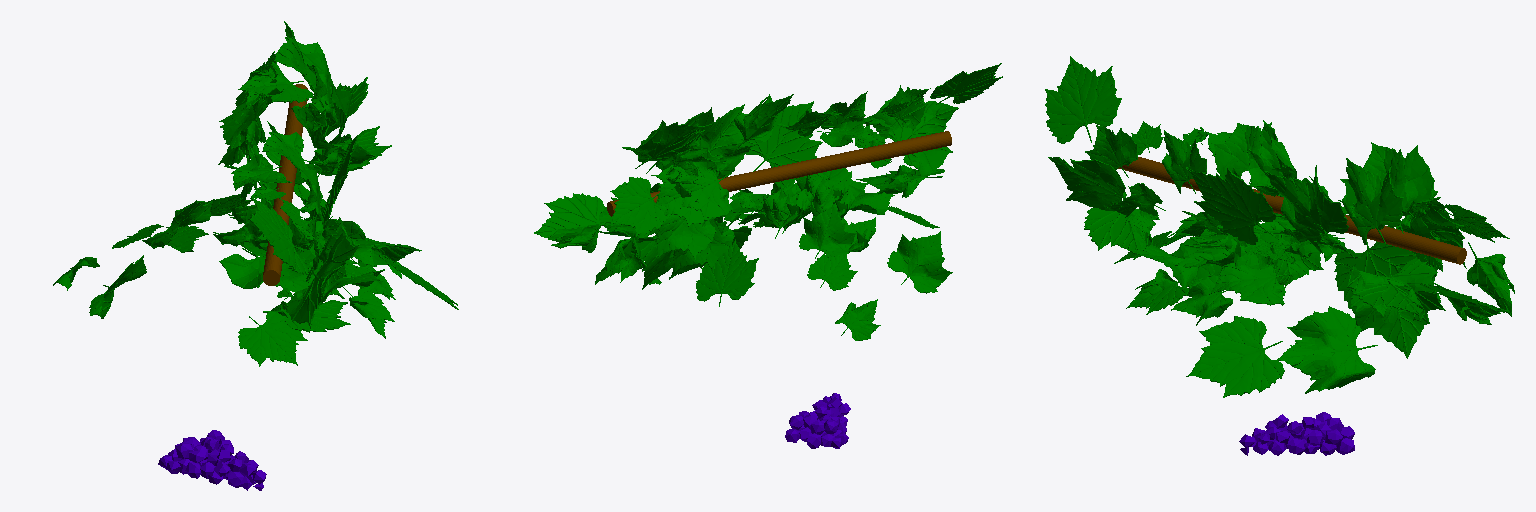
--- What the picture shows (computed from the rendered views, not written in the file) ---
The picture shows the robot from 3 angles, left to right: view 1: azimuth 30°, elevation 25°; view 2: azimuth 150°, elevation 25°; view 3: azimuth 270°, elevation 25°; orthographic projection.
Model UNNAMED_0 with 125 links and 124 joints (2 revolute, 60 prismatic, 62 fixed), rooted at target, posed every joint at zero.
Visible links, largest first — view 1: target, cluster_2_leaf_6, branch_0_leaf_5, cluster_2_leaf_3, branch_0, branch_0_leaf_22, branch_0_leaf_27, branch_0_leaf_4, branch_0_leaf_25, branch_0_leaf_15, branch_0_leaf_32, branch_0_leaf_14 (+18 smaller); view 2: branch_0, branch_0_leaf_20, branch_0_leaf_17, branch_0_leaf_5, target, cluster_2_leaf_7, cluster_2_leaf_9, branch_0_leaf_33, branch_0_leaf_29, branch_0_leaf_37, branch_0_leaf_32, branch_0_leaf_25 (+19 smaller); view 3: cluster_2_leaf_8, cluster_2_leaf_5, branch_0_leaf_22, branch_0_leaf_17, target, branch_0_leaf_9, branch_0_leaf_33, branch_0_leaf_25, branch_0_leaf_4, branch_0, branch_0_leaf_5, cluster_2_leaf_0 (+22 smaller).
Boxes of the visible links, x1=… form: target: x1=158, y1=430, x2=266, y2=490; cluster_2_leaf_6: x1=238, y1=312, x2=307, y2=366; branch_0_leaf_5: x1=286, y1=233, x2=358, y2=328; cluster_2_leaf_3: x1=219, y1=247, x2=314, y2=292; branch_0: x1=263, y1=84, x2=307, y2=285; branch_0_leaf_22: x1=248, y1=196, x2=308, y2=274; branch_0_leaf_27: x1=238, y1=62, x2=312, y2=102; branch_0_leaf_4: x1=300, y1=51, x2=338, y2=126; branch_0_leaf_25: x1=274, y1=21, x2=330, y2=121; branch_0_leaf_15: x1=263, y1=300, x2=350, y2=332; branch_0_leaf_32: x1=220, y1=88, x2=284, y2=148; branch_0_leaf_14: x1=291, y1=103, x2=350, y2=161; branch_0: x1=607, y1=131, x2=951, y2=216; branch_0_leaf_20: x1=534, y1=193, x2=618, y2=252; branch_0_leaf_17: x1=741, y1=94, x2=822, y2=187; branch_0_leaf_5: x1=867, y1=87, x2=958, y2=175; target: x1=785, y1=393, x2=850, y2=448; cluster_2_leaf_7: x1=887, y1=231, x2=952, y2=293; cluster_2_leaf_9: x1=696, y1=239, x2=758, y2=306; branch_0_leaf_33: x1=688, y1=104, x2=755, y2=178; branch_0_leaf_29: x1=610, y1=177, x2=668, y2=236; branch_0_leaf_37: x1=650, y1=183, x2=716, y2=260; branch_0_leaf_32: x1=672, y1=149, x2=732, y2=220; branch_0_leaf_25: x1=622, y1=120, x2=711, y2=169; cluster_2_leaf_8: x1=1277, y1=306, x2=1377, y2=393; cluster_2_leaf_5: x1=1186, y1=316, x2=1284, y2=397; branch_0_leaf_22: x1=1045, y1=56, x2=1121, y2=143; branch_0_leaf_17: x1=1186, y1=167, x2=1275, y2=244; target: x1=1239, y1=412, x2=1354, y2=455; branch_0_leaf_9: x1=1351, y1=259, x2=1445, y2=358; branch_0_leaf_33: x1=1265, y1=165, x2=1348, y2=253; branch_0_leaf_25: x1=1340, y1=142, x2=1434, y2=233; branch_0_leaf_4: x1=1342, y1=158, x2=1403, y2=244; branch_0: x1=1118, y1=157, x2=1466, y2=264; branch_0_leaf_5: x1=1048, y1=157, x2=1126, y2=210; cluster_2_leaf_0: x1=1208, y1=245, x2=1288, y2=305.
Size in the robot's own frame: 0.4897 by 0.5541 by 0.4737 metres.
Meshes: 7 distinct files referenced, 61 mesh visuals loaded (7 binary STL).

The robot description file, URDF, robot "UNNAMED_0":
<?xml version="1.0"?>
<robot  name="UNNAMED_0" >
 <link  name="target" >
  <visual >
   <geometry >
    <mesh  scale="0.01"  filename="./vine/grape_bunch.stl" />
   </geometry>
   <material  name="target_material" >
    <color  rgba="0.3 0 0.7 0.5" />
   </material>
  </visual>
 </link>
 <link  name="branch_0" >
  <visual >
   <geometry >
    <cylinder  radius="0.01"  length="0.5" />
   </geometry>
   <origin  xyz="0 0 0.25"  rpy="0.0 0 0" />
   <material  name="branch_0_material" >
    <color  rgba="0.4 0.25 0 0.6" />
   </material>
  </visual>
  <collision >
   <geometry >
    <cylinder  radius="0.01"  length="0.5" />
   </geometry>
   <origin  xyz="0 0 0.25"  rpy="0 0 0" />
  </collision>
 </link>
 <link  name="branch_0_link_x" />
 <joint  name="branch_0_joint_x"  type="revolute" >
  <parent  link="target" />
  <child  link="branch_0_link_x" />
  <limit  lower="-6.283185307179586"  velocity="100"  upper="6.283185307179586"  effort="100" />
  <axis  xyz="1 0 0" />
  <origin  xyz="0.2 0.2 0.35"  rpy="1.5707963267948963 0.8768157318939024 -0.5880026035475676" />
 </joint>
 <link  name="branch_0_link_y" />
 <joint  name="branch_0_joint_y"  type="revolute" >
  <parent  link="branch_0_link_x" />
  <child  link="branch_0_link_y" />
  <limit  lower="-6.283185307179586"  velocity="100"  upper="6.283185307179586"  effort="100" />
  <axis  xyz="0 1 0" />
 </joint>
 <joint  name="branch_0_joint"  type="fixed" >
  <parent  link="branch_0_link_y" />
  <child  link="branch_0" />
 </joint>
 <link  name="branch_0_leaf_0" >
  <visual >
   <geometry >
    <mesh  scale="0.013733330630307981"  filename="./vine/leaf_2.stl" />
   </geometry>
   <origin  xyz="-0.006583960767523213 0.04956461904031661 0.2700603665485256"  rpy="2.7755575615628914e-17 -0.9237938808963653 0.13206275572734275" />
   <material  name="branch_0_leaf_0_material" >
    <color  rgba="0 0.5 0 0.7" />
   </material>
  </visual>
  <collision >
   <geometry >
    <cylinder  radius="0.01"  length="0.5" />
   </geometry>
   <origin  xyz="0 0 0.25"  rpy="0 0 0" />
  </collision>
  <inertial >
   <mass  value="0.03" />
   <inertia  ixx="8.790799516039887e-05"  iyz="0.0"  iyy="8.790799516039887e-05"  izz="8.790799516039887e-05"  ixz="0.0"  ixy="0.0" />
  </inertial>
 </link>
 <joint  name="branch_0_leaf_0_joint"  type="fixed" >
  <parent  link="branch_0" />
  <child  link="branch_0_leaf_0" />
 </joint>
 <link  name="branch_0_leaf_1" >
  <visual >
   <geometry >
    <mesh  scale="0.010795999950080182"  filename="./vine/leaf_3.stl" />
   </geometry>
   <origin  xyz="0.04716831153384256 0.01658765767208786 0.3882270306335021"  rpy="1.1102230246251565e-16 -0.4882818589307187 -1.2326349557121339" />
   <material  name="branch_0_leaf_1_material" >
    <color  rgba="0 0.5 0 0.7" />
   </material>
  </visual>
  <collision >
   <geometry >
    <cylinder  radius="0.01"  length="0.5" />
   </geometry>
   <origin  xyz="0 0 0.25"  rpy="0 0 0" />
  </collision>
  <inertial >
   <mass  value="0.03" />
   <inertia  ixx="0.00011102848940146241"  iyz="0.0"  iyy="0.00011102848940146241"  izz="0.00011102848940146241"  ixz="0.0"  ixy="0.0" />
  </inertial>
 </link>
 <joint  name="branch_0_leaf_1_joint"  type="fixed" >
  <parent  link="branch_0" />
  <child  link="branch_0_leaf_1" />
 </joint>
 <link  name="branch_0_leaf_2" >
  <visual >
   <geometry >
    <mesh  scale="0.014723156081497202"  filename="./vine/leaf_2.stl" />
   </geometry>
   <origin  xyz="0.010586907557168476 -0.04886632161699885 0.2837809693816618"  rpy="3.141592653589793 -0.9181007722981155 0.21335309372548017" />
   <material  name="branch_0_leaf_2_material" >
    <color  rgba="0 0.5 0 0.7" />
   </material>
  </visual>
  <collision >
   <geometry >
    <cylinder  radius="0.01"  length="0.5" />
   </geometry>
   <origin  xyz="0 0 0.25"  rpy="0 0 0" />
  </collision>
  <inertial >
   <mass  value="0.03" />
   <inertia  ixx="8.051249860533153e-05"  iyz="0.0"  iyy="8.051249860533153e-05"  izz="8.051249860533153e-05"  ixz="0.0"  ixy="0.0" />
  </inertial>
 </link>
 <joint  name="branch_0_leaf_2_joint"  type="fixed" >
  <parent  link="branch_0" />
  <child  link="branch_0_leaf_2" />
 </joint>
 <link  name="branch_0_leaf_3" >
  <visual >
   <geometry >
    <mesh  scale="0.0116577788130088"  filename="./vine/leaf_5.stl" />
   </geometry>
   <origin  xyz="-0.04719742483467983 0.016504638407876384 0.05005215335606972"  rpy="0.0 -0.4865163039912185 1.2343944766142734" />
   <material  name="branch_0_leaf_3_material" >
    <color  rgba="0 0.5 0 0.7" />
   </material>
  </visual>
  <collision >
   <geometry >
    <cylinder  radius="0.01"  length="0.5" />
   </geometry>
   <origin  xyz="0 0 0.25"  rpy="0 0 0" />
  </collision>
  <inertial >
   <mass  value="0.03" />
   <inertia  ixx="8.486858368027332e-05"  iyz="0.0"  iyy="8.486858368027332e-05"  izz="8.486858368027332e-05"  ixz="0.0"  ixy="0.0" />
  </inertial>
 </link>
 <joint  name="branch_0_leaf_3_joint"  type="fixed" >
  <parent  link="branch_0" />
  <child  link="branch_0_leaf_3" />
 </joint>
 <link  name="branch_0_leaf_4" >
  <visual >
   <geometry >
    <mesh  scale="0.01664917866615319"  filename="./vine/leaf_1.stl" />
   </geometry>
   <origin  xyz="0.020745937275984314 0.04549292347762369 0.0741958672346883"  rpy="-1.1102230246251565e-16 -0.8891815987428 -0.4278534966277839" />
   <material  name="branch_0_leaf_4_material" >
    <color  rgba="0 0.5 0 0.7" />
   </material>
  </visual>
  <collision >
   <geometry >
    <cylinder  radius="0.01"  length="0.5" />
   </geometry>
   <origin  xyz="0 0 0.25"  rpy="0 0 0" />
  </collision>
  <inertial >
   <mass  value="0.03" />
   <inertia  ixx="9.30452544408818e-05"  iyz="0.0"  iyy="9.30452544408818e-05"  izz="9.30452544408818e-05"  ixz="0.0"  ixy="0.0" />
  </inertial>
 </link>
 <joint  name="branch_0_leaf_4_joint"  type="fixed" >
  <parent  link="branch_0" />
  <child  link="branch_0_leaf_4" />
 </joint>
 <link  name="branch_0_leaf_5" >
  <visual >
   <geometry >
    <mesh  scale="0.01935789837545561"  filename="./vine/leaf_2.stl" />
   </geometry>
   <origin  xyz="0.04823650292142856 0.013162058574213004 0.42006392457968955"  rpy="1.1102230246251565e-16 -0.41089081368971225 -1.304415989398763" />
   <material  name="branch_0_leaf_5_material" >
    <color  rgba="0 0.5 0 0.7" />
   </material>
  </visual>
  <collision >
   <geometry >
    <cylinder  radius="0.01"  length="0.5" />
   </geometry>
   <origin  xyz="0 0 0.25"  rpy="0 0 0" />
  </collision>
  <inertial >
   <mass  value="0.03" />
   <inertia  ixx="0.00011849059371683476"  iyz="0.0"  iyy="0.00011849059371683476"  izz="0.00011849059371683476"  ixz="0.0"  ixy="0.0" />
  </inertial>
 </link>
 <joint  name="branch_0_leaf_5_joint"  type="fixed" >
  <parent  link="branch_0" />
  <child  link="branch_0_leaf_5" />
 </joint>
 <link  name="branch_0_leaf_6" >
  <visual >
   <geometry >
    <mesh  scale="0.012396976374679035"  filename="./vine/leaf_1.stl" />
   </geometry>
   <origin  xyz="0.02352596550031217 0.044119484893617264 0.34289682744732347"  rpy="0.0 -0.8766901292200545 -0.48987921255452477" />
   <material  name="branch_0_leaf_6_material" >
    <color  rgba="0 0.5 0 0.7" />
   </material>
  </visual>
  <collision >
   <geometry >
    <cylinder  radius="0.01"  length="0.5" />
   </geometry>
   <origin  xyz="0 0 0.25"  rpy="0 0 0" />
  </collision>
  <inertial >
   <mass  value="0.03" />
   <inertia  ixx="8.819870719010738e-05"  iyz="0.0"  iyy="8.819870719010738e-05"  izz="8.819870719010738e-05"  ixz="0.0"  ixy="0.0" />
  </inertial>
 </link>
 <joint  name="branch_0_leaf_6_joint"  type="fixed" >
  <parent  link="branch_0" />
  <child  link="branch_0_leaf_6" />
 </joint>
 <link  name="branch_0_leaf_7" >
  <visual >
   <geometry >
    <mesh  scale="0.014632943213731296"  filename="./vine/leaf_2.stl" />
   </geometry>
   <origin  xyz="0.022883136830799237 -0.044456293691477695 0.26826674639106846"  rpy="3.141592653589793 -0.8797939071670984 0.4753646941549803" />
   <material  name="branch_0_leaf_7_material" >
    <color  rgba="0 0.5 0 0.7" />
   </material>
  </visual>
  <collision >
   <geometry >
    <cylinder  radius="0.01"  length="0.5" />
   </geometry>
   <origin  xyz="0 0 0.25"  rpy="0 0 0" />
  </collision>
  <inertial >
   <mass  value="0.03" />
   <inertia  ixx="0.00011956027911399997"  iyz="0.0"  iyy="0.00011956027911399997"  izz="0.00011956027911399997"  ixz="0.0"  ixy="0.0" />
  </inertial>
 </link>
 <joint  name="branch_0_leaf_7_joint"  type="fixed" >
  <parent  link="branch_0" />
  <child  link="branch_0_leaf_7" />
 </joint>
 <link  name="branch_0_leaf_8" >
  <visual >
   <geometry >
    <mesh  scale="0.019504625593342817"  filename="./vine/leaf_2.stl" />
   </geometry>
   <origin  xyz="0.02145314402116516 -0.045163731152409736 0.3476226224976829"  rpy="3.141592653589793 -0.8862271082003151 0.4434550518141336" />
   <material  name="branch_0_leaf_8_material" >
    <color  rgba="0 0.5 0 0.7" />
   </material>
  </visual>
  <collision >
   <geometry >
    <cylinder  radius="0.01"  length="0.5" />
   </geometry>
   <origin  xyz="0 0 0.25"  rpy="0 0 0" />
  </collision>
  <inertial >
   <mass  value="0.03" />
   <inertia  ixx="0.00010143856763033302"  iyz="0.0"  iyy="0.00010143856763033302"  izz="0.00010143856763033302"  ixz="0.0"  ixy="0.0" />
  </inertial>
 </link>
 <joint  name="branch_0_leaf_8_joint"  type="fixed" >
  <parent  link="branch_0" />
  <child  link="branch_0_leaf_8" />
 </joint>
 <link  name="branch_0_leaf_9" >
  <visual >
   <geometry >
    <mesh  scale="0.018825160562834394"  filename="./vine/leaf_3.stl" />
   </geometry>
   <origin  xyz="0.01563625447723619 -0.04749218405088475 0.12162185288570077"  rpy="3.141592653589793 -0.9066109372798049 0.3180606700425288" />
   <material  name="branch_0_leaf_9_material" >
    <color  rgba="0 0.5 0 0.7" />
   </material>
  </visual>
  <collision >
   <geometry >
    <cylinder  radius="0.01"  length="0.5" />
   </geometry>
   <origin  xyz="0 0 0.25"  rpy="0 0 0" />
  </collision>
  <inertial >
   <mass  value="0.03" />
   <inertia  ixx="8.863450596377719e-05"  iyz="0.0"  iyy="8.863450596377719e-05"  izz="8.863450596377719e-05"  ixz="0.0"  ixy="0.0" />
  </inertial>
 </link>
 <joint  name="branch_0_leaf_9_joint"  type="fixed" >
  <parent  link="branch_0" />
  <child  link="branch_0_leaf_9" />
 </joint>
 <link  name="branch_0_leaf_10" >
  <visual >
   <geometry >
    <mesh  scale="0.009534906576850754"  filename="./vine/leaf_2.stl" />
   </geometry>
   <origin  xyz="0.018498399010068032 -0.04645222528646302 0.30981088502973775"  rpy="3.141592653589793 -0.8976531374111711 0.3789745551583088" />
   <material  name="branch_0_leaf_10_material" >
    <color  rgba="0 0.5 0 0.7" />
   </material>
  </visual>
  <collision >
   <geometry >
    <cylinder  radius="0.01"  length="0.5" />
   </geometry>
   <origin  xyz="0 0 0.25"  rpy="0 0 0" />
  </collision>
  <inertial >
   <mass  value="0.03" />
   <inertia  ixx="0.00010291859094123225"  iyz="0.0"  iyy="0.00010291859094123225"  izz="0.00010291859094123225"  ixz="0.0"  ixy="0.0" />
  </inertial>
 </link>
 <joint  name="branch_0_leaf_10_joint"  type="fixed" >
  <parent  link="branch_0" />
  <child  link="branch_0_leaf_10" />
 </joint>
 <link  name="branch_0_leaf_11" >
  <visual >
   <geometry >
    <mesh  scale="0.019647462259863458"  filename="./vine/leaf_4.stl" />
   </geometry>
   <origin  xyz="0.041466117329029155 -0.027938523827417728 0.10579317216273348"  rpy="3.141592653589793 -0.6883986709347637 0.9778938325433597" />
   <material  name="branch_0_leaf_11_material" >
    <color  rgba="0 0.5 0 0.7" />
   </material>
  </visual>
  <collision >
   <geometry >
    <cylinder  radius="0.01"  length="0.5" />
   </geometry>
   <origin  xyz="0 0 0.25"  rpy="0 0 0" />
  </collision>
  <inertial >
   <mass  value="0.03" />
   <inertia  ixx="0.00011942359486126983"  iyz="0.0"  iyy="0.00011942359486126983"  izz="0.00011942359486126983"  ixz="0.0"  ixy="0.0" />
  </inertial>
 </link>
 <joint  name="branch_0_leaf_11_joint"  type="fixed" >
  <parent  link="branch_0" />
  <child  link="branch_0_leaf_11" />
 </joint>
 <link  name="branch_0_leaf_12" >
  <visual >
   <geometry >
    <mesh  scale="0.01991708033286379"  filename="./vine/leaf_0.stl" />
   </geometry>
   <origin  xyz="-0.012886624250109481 -0.04831081571901359 0.17282332312028703"  rpy="3.141592653589793 -0.9135023741301821 -0.2606746672489175" />
   <material  name="branch_0_leaf_12_material" >
    <color  rgba="0 0.5 0 0.7" />
   </material>
  </visual>
  <collision >
   <geometry >
    <cylinder  radius="0.01"  length="0.5" />
   </geometry>
   <origin  xyz="0 0 0.25"  rpy="0 0 0" />
  </collision>
  <inertial >
   <mass  value="0.03" />
   <inertia  ixx="9.790957402722109e-05"  iyz="0.0"  iyy="9.790957402722109e-05"  izz="9.790957402722109e-05"  ixz="0.0"  ixy="0.0" />
  </inertial>
 </link>
 <joint  name="branch_0_leaf_12_joint"  type="fixed" >
  <parent  link="branch_0" />
  <child  link="branch_0_leaf_12" />
 </joint>
 <link  name="branch_0_leaf_13" >
  <visual >
   <geometry >
    <mesh  scale="0.008066139125876531"  filename="./vine/leaf_4.stl" />
   </geometry>
   <origin  xyz="0.03772134270315896 -0.03281920633822269 0.2570016341407226"  rpy="3.141592653589793 -0.7545826315220482 0.8547804940096535" />
   <material  name="branch_0_leaf_13_material" >
    <color  rgba="0 0.5 0 0.7" />
   </material>
  </visual>
  <collision >
   <geometry >
    <cylinder  radius="0.01"  length="0.5" />
   </geometry>
   <origin  xyz="0 0 0.25"  rpy="0 0 0" />
  </collision>
  <inertial >
   <mass  value="0.03" />
   <inertia  ixx="8.598195457824742e-05"  iyz="0.0"  iyy="8.598195457824742e-05"  izz="8.598195457824742e-05"  ixz="0.0"  ixy="0.0" />
  </inertial>
 </link>
 <joint  name="branch_0_leaf_13_joint"  type="fixed" >
  <parent  link="branch_0" />
  <child  link="branch_0_leaf_13" />
 </joint>
 <link  name="branch_0_leaf_14" >
  <visual >
   <geometry >
    <mesh  scale="0.01753145649249076"  filename="./vine/leaf_5.stl" />
   </geometry>
   <origin  xyz="0.014335657331424643 0.04790082388514806 0.2002102746166003"  rpy="-8.326672684688674e-17 -0.9100682757683889 -0.29079417338295055" />
   <material  name="branch_0_leaf_14_material" >
    <color  rgba="0 0.5 0 0.7" />
   </material>
  </visual>
  <collision >
   <geometry >
    <cylinder  radius="0.01"  length="0.5" />
   </geometry>
   <origin  xyz="0 0 0.25"  rpy="0 0 0" />
  </collision>
  <inertial >
   <mass  value="0.03" />
   <inertia  ixx="8.189671370257008e-05"  iyz="0.0"  iyy="8.189671370257008e-05"  izz="8.189671370257008e-05"  ixz="0.0"  ixy="0.0" />
  </inertial>
 </link>
 <joint  name="branch_0_leaf_14_joint"  type="fixed" >
  <parent  link="branch_0" />
  <child  link="branch_0_leaf_14" />
 </joint>
 <link  name="branch_0_leaf_15" >
  <visual >
   <geometry >
    <mesh  scale="0.0187066425417356"  filename="./vine/leaf_4.stl" />
   </geometry>
   <origin  xyz="0.02855989087709326 -0.041040621743444944 0.4888468097538032"  rpy="-3.1415926535897927 -0.8470290589871987 0.6079644227578549" />
   <material  name="branch_0_leaf_15_material" >
    <color  rgba="0 0.5 0 0.7" />
   </material>
  </visual>
  <collision >
   <geometry >
    <cylinder  radius="0.01"  length="0.5" />
   </geometry>
   <origin  xyz="0 0 0.25"  rpy="0 0 0" />
  </collision>
  <inertial >
   <mass  value="0.03" />
   <inertia  ixx="8.878454071653854e-05"  iyz="0.0"  iyy="8.878454071653854e-05"  izz="8.878454071653854e-05"  ixz="0.0"  ixy="0.0" />
  </inertial>
 </link>
 <joint  name="branch_0_leaf_15_joint"  type="fixed" >
  <parent  link="branch_0" />
  <child  link="branch_0_leaf_15" />
 </joint>
 <link  name="branch_0_leaf_16" >
  <visual >
   <geometry >
    <mesh  scale="0.005721453222838415"  filename="./vine/leaf_1.stl" />
   </geometry>
   <origin  xyz="0.0492670231160171 -0.008529972642736755 0.2299789210126364"  rpy="3.141592653589793 -0.28943600546021175 1.3993583183686773" />
   <material  name="branch_0_leaf_16_material" >
    <color  rgba="0 0.5 0 0.7" />
   </material>
  </visual>
  <collision >
   <geometry >
    <cylinder  radius="0.01"  length="0.5" />
   </geometry>
   <origin  xyz="0 0 0.25"  rpy="0 0 0" />
  </collision>
  <inertial >
   <mass  value="0.03" />
   <inertia  ixx="9.457783283040831e-05"  iyz="0.0"  iyy="9.457783283040831e-05"  izz="9.457783283040831e-05"  ixz="0.0"  ixy="0.0" />
  </inertial>
 </link>
 <joint  name="branch_0_leaf_16_joint"  type="fixed" >
  <parent  link="branch_0" />
  <child  link="branch_0_leaf_16" />
 </joint>
 <link  name="branch_0_leaf_17" >
  <visual >
   <geometry >
    <mesh  scale="0.01953057597611517"  filename="./vine/leaf_0.stl" />
   </geometry>
   <origin  xyz="0.043805359107376 0.02410581907909024 0.22938432442428003"  rpy="0.0 -0.6289868106877876 -1.067727550376464" />
   <material  name="branch_0_leaf_17_material" >
    <color  rgba="0 0.5 0 0.7" />
   </material>
  </visual>
  <collision >
   <geometry >
    <cylinder  radius="0.01"  length="0.5" />
   </geometry>
   <origin  xyz="0 0 0.25"  rpy="0 0 0" />
  </collision>
  <inertial >
   <mass  value="0.03" />
   <inertia  ixx="9.883454531404949e-05"  iyz="0.0"  iyy="9.883454531404949e-05"  izz="9.883454531404949e-05"  ixz="0.0"  ixy="0.0" />
  </inertial>
 </link>
 <joint  name="branch_0_leaf_17_joint"  type="fixed" >
  <parent  link="branch_0" />
  <child  link="branch_0_leaf_17" />
 </joint>
 <link  name="branch_0_leaf_18" >
  <visual >
   <geometry >
    <mesh  scale="0.011137318129392879"  filename="./vine/leaf_2.stl" />
   </geometry>
   <origin  xyz="0.026716942231122975 0.04226351852151969 0.437529525754015"  rpy="0.0 -0.8590958822827313 -0.5637253714523066" />
   <material  name="branch_0_leaf_18_material" >
    <color  rgba="0 0.5 0 0.7" />
   </material>
  </visual>
  <collision >
   <geometry >
    <cylinder  radius="0.01"  length="0.5" />
   </geometry>
   <origin  xyz="0 0 0.25"  rpy="0 0 0" />
  </collision>
  <inertial >
   <mass  value="0.03" />
   <inertia  ixx="8.226983018090484e-05"  iyz="0.0"  iyy="8.226983018090484e-05"  izz="8.226983018090484e-05"  ixz="0.0"  ixy="0.0" />
  </inertial>
 </link>
 <joint  name="branch_0_leaf_18_joint"  type="fixed" >
  <parent  link="branch_0" />
  <child  link="branch_0_leaf_18" />
 </joint>
 <link  name="branch_0_leaf_19" >
  <visual >
   <geometry >
    <mesh  scale="0.006831169612560052"  filename="./vine/leaf_3.stl" />
   </geometry>
   <origin  xyz="0.04372922977134046 -0.024243647902188973 0.4546605695943229"  rpy="3.141592653589793 -0.6312513848853072 1.0645784247345824" />
   <material  name="branch_0_leaf_19_material" >
    <color  rgba="0 0.5 0 0.7" />
   </material>
  </visual>
  <collision >
   <geometry >
    <cylinder  radius="0.01"  length="0.5" />
   </geometry>
   <origin  xyz="0 0 0.25"  rpy="0 0 0" />
  </collision>
  <inertial >
   <mass  value="0.03" />
   <inertia  ixx="0.00010444207793233935"  iyz="0.0"  iyy="0.00010444207793233935"  izz="0.00010444207793233935"  ixz="0.0"  ixy="0.0" />
  </inertial>
 </link>
 <joint  name="branch_0_leaf_19_joint"  type="fixed" >
  <parent  link="branch_0" />
  <child  link="branch_0_leaf_19" />
 </joint>
 <link  name="branch_0_leaf_20" >
  <visual >
   <geometry >
    <mesh  scale="0.0181104377557538"  filename="./vine/leaf_4.stl" />
   </geometry>
   <origin  xyz="0.04991844147664695 -0.002854680462428893 0.030600843256041843"  rpy="-3.1415926535897927 -0.10791511783227661 1.5136716541410684" />
   <material  name="branch_0_leaf_20_material" >
    <color  rgba="0 0.5 0 0.7" />
   </material>
  </visual>
  <collision >
   <geometry >
    <cylinder  radius="0.01"  length="0.5" />
   </geometry>
   <origin  xyz="0 0 0.25"  rpy="0 0 0" />
  </collision>
  <inertial >
   <mass  value="0.03" />
   <inertia  ixx="0.00010847292396251202"  iyz="0.0"  iyy="0.00010847292396251202"  izz="0.00010847292396251202"  ixz="0.0"  ixy="0.0" />
  </inertial>
 </link>
 <joint  name="branch_0_leaf_20_joint"  type="fixed" >
  <parent  link="branch_0" />
  <child  link="branch_0_leaf_20" />
 </joint>
 <link  name="branch_0_leaf_21" >
  <visual >
   <geometry >
    <mesh  scale="0.008299917290683636"  filename="./vine/leaf_4.stl" />
   </geometry>
   <origin  xyz="-0.02550342043965111 -0.04300669187322348 0.09284316450308067"  rpy="-3.1415926535897927 -0.8662426161886428 -0.535264321131129" />
   <material  name="branch_0_leaf_21_material" >
    <color  rgba="0 0.5 0 0.7" />
   </material>
  </visual>
  <collision >
   <geometry >
    <cylinder  radius="0.01"  length="0.5" />
   </geometry>
   <origin  xyz="0 0 0.25"  rpy="0 0 0" />
  </collision>
  <inertial >
   <mass  value="0.03" />
   <inertia  ixx="9.447693541543822e-05"  iyz="0.0"  iyy="9.447693541543822e-05"  izz="9.447693541543822e-05"  ixz="0.0"  ixy="0.0" />
  </inertial>
 </link>
 <joint  name="branch_0_leaf_21_joint"  type="fixed" >
  <parent  link="branch_0" />
  <child  link="branch_0_leaf_21" />
 </joint>
 <link  name="branch_0_leaf_22" >
  <visual >
   <geometry >
    <mesh  scale="0.01696937848048767"  filename="./vine/leaf_0.stl" />
   </geometry>
   <origin  xyz="0.00033300206298059805 0.04999889108396356 0.49716155617711494"  rpy="-4.336808689942018e-19 -0.9272863465552685 -0.006660090496225795" />
   <material  name="branch_0_leaf_22_material" >
    <color  rgba="0 0.5 0 0.7" />
   </material>
  </visual>
  <collision >
   <geometry >
    <cylinder  radius="0.01"  length="0.5" />
   </geometry>
   <origin  xyz="0 0 0.25"  rpy="0 0 0" />
  </collision>
  <inertial >
   <mass  value="0.03" />
   <inertia  ixx="0.00010772922182743714"  iyz="0.0"  iyy="0.00010772922182743714"  izz="0.00010772922182743714"  ixz="0.0"  ixy="0.0" />
  </inertial>
 </link>
 <joint  name="branch_0_leaf_22_joint"  type="fixed" >
  <parent  link="branch_0" />
  <child  link="branch_0_leaf_22" />
 </joint>
 <link  name="branch_0_leaf_23" >
  <visual >
   <geometry >
    <mesh  scale="0.015117214778143932"  filename="./vine/leaf_2.stl" />
   </geometry>
   <origin  xyz="-0.049366117747220606 -0.007936398337252935 0.13407341285726487"  rpy="3.141592653589793 -0.27227471669348735 -1.411394174364947" />
   <material  name="branch_0_leaf_23_material" >
    <color  rgba="0 0.5 0 0.7" />
   </material>
  </visual>
  <collision >
   <geometry >
    <cylinder  radius="0.01"  length="0.5" />
   </geometry>
   <origin  xyz="0 0 0.25"  rpy="0 0 0" />
  </collision>
  <inertial >
   <mass  value="0.03" />
   <inertia  ixx="9.004488799243869e-05"  iyz="0.0"  iyy="9.004488799243869e-05"  izz="9.004488799243869e-05"  ixz="0.0"  ixy="0.0" />
  </inertial>
 </link>
 <joint  name="branch_0_leaf_23_joint"  type="fixed" >
  <parent  link="branch_0" />
  <child  link="branch_0_leaf_23" />
 </joint>
 <link  name="branch_0_leaf_24" >
  <visual >
   <geometry >
    <mesh  scale="0.015505343712052328"  filename="./vine/leaf_3.stl" />
   </geometry>
   <origin  xyz="0.049640798706186075 -0.005982566657540479 0.14931918744155487"  rpy="3.141592653589793 -0.21292155701006668 1.4508576416454328" />
   <material  name="branch_0_leaf_24_material" >
    <color  rgba="0 0.5 0 0.7" />
   </material>
  </visual>
  <collision >
   <geometry >
    <cylinder  radius="0.01"  length="0.5" />
   </geometry>
   <origin  xyz="0 0 0.25"  rpy="0 0 0" />
  </collision>
  <inertial >
   <mass  value="0.03" />
   <inertia  ixx="0.00011780422014932206"  iyz="0.0"  iyy="0.00011780422014932206"  izz="0.00011780422014932206"  ixz="0.0"  ixy="0.0" />
  </inertial>
 </link>
 <joint  name="branch_0_leaf_24_joint"  type="fixed" >
  <parent  link="branch_0" />
  <child  link="branch_0_leaf_24" />
 </joint>
 <link  name="branch_0_leaf_25" >
  <visual >
   <geometry >
    <mesh  scale="0.01894440427107916"  filename="./vine/leaf_2.stl" />
   </geometry>
   <origin  xyz="0.004333619344926264 0.04981184340468922 0.0550622123594236"  rpy="1.3877787807814457e-17 -0.9257865591552844 -0.0867812706886327" />
   <material  name="branch_0_leaf_25_material" >
    <color  rgba="0 0.5 0 0.7" />
   </material>
  </visual>
  <collision >
   <geometry >
    <cylinder  radius="0.01"  length="0.5" />
   </geometry>
   <origin  xyz="0 0 0.25"  rpy="0 0 0" />
  </collision>
  <inertial >
   <mass  value="0.03" />
   <inertia  ixx="8.564104325110826e-05"  iyz="0.0"  iyy="8.564104325110826e-05"  izz="8.564104325110826e-05"  ixz="0.0"  ixy="0.0" />
  </inertial>
 </link>
 <joint  name="branch_0_leaf_25_joint"  type="fixed" >
  <parent  link="branch_0" />
  <child  link="branch_0_leaf_25" />
 </joint>
 <link  name="branch_0_leaf_26" >
  <visual >
   <geometry >
    <mesh  scale="0.008028528493315042"  filename="./vine/leaf_0.stl" />
   </geometry>
   <origin  xyz="0.03287585608506351 -0.037671980126802375 0.29429028255353135"  rpy="3.141592653589793 -0.811676792764619 0.7175186113882601" />
   <material  name="branch_0_leaf_26_material" >
    <color  rgba="0 0.5 0 0.7" />
   </material>
  </visual>
  <collision >
   <geometry >
    <cylinder  radius="0.01"  length="0.5" />
   </geometry>
   <origin  xyz="0 0 0.25"  rpy="0 0 0" />
  </collision>
  <inertial >
   <mass  value="0.03" />
   <inertia  ixx="0.00010830335730881926"  iyz="0.0"  iyy="0.00010830335730881926"  izz="0.00010830335730881926"  ixz="0.0"  ixy="0.0" />
  </inertial>
 </link>
 <joint  name="branch_0_leaf_26_joint"  type="fixed" >
  <parent  link="branch_0" />
  <child  link="branch_0_leaf_26" />
 </joint>
 <link  name="branch_0_leaf_27" >
  <visual >
   <geometry >
    <mesh  scale="0.014480305774915225"  filename="./vine/leaf_4.stl" />
   </geometry>
   <origin  xyz="-0.029560164498096578 0.04032612893454405 0.07402273387283481"  rpy="5.551115123125783e-17 -0.8397961786444856 0.6325499746595513" />
   <material  name="branch_0_leaf_27_material" >
    <color  rgba="0 0.5 0 0.7" />
   </material>
  </visual>
  <collision >
   <geometry >
    <cylinder  radius="0.01"  length="0.5" />
   </geometry>
   <origin  xyz="0 0 0.25"  rpy="0 0 0" />
  </collision>
  <inertial >
   <mass  value="0.03" />
   <inertia  ixx="9.426926391180712e-05"  iyz="0.0"  iyy="9.426926391180712e-05"  izz="9.426926391180712e-05"  ixz="0.0"  ixy="0.0" />
  </inertial>
 </link>
 <joint  name="branch_0_leaf_27_joint"  type="fixed" >
  <parent  link="branch_0" />
  <child  link="branch_0_leaf_27" />
 </joint>
 <link  name="branch_0_leaf_28" >
  <visual >
   <geometry >
    <mesh  scale="0.012103576537140474"  filename="./vine/leaf_2.stl" />
   </geometry>
   <origin  xyz="-0.037638639504996727 0.03291402157459492 0.3050907885897458"  rpy="0.0 -0.7557757132475172 0.8522641668141331" />
   <material  name="branch_0_leaf_28_material" >
    <color  rgba="0 0.5 0 0.7" />
   </material>
  </visual>
  <collision >
   <geometry >
    <cylinder  radius="0.01"  length="0.5" />
   </geometry>
   <origin  xyz="0 0 0.25"  rpy="0 0 0" />
  </collision>
  <inertial >
   <mass  value="0.03" />
   <inertia  ixx="8.510303870559632e-05"  iyz="0.0"  iyy="8.510303870559632e-05"  izz="8.510303870559632e-05"  ixz="0.0"  ixy="0.0" />
  </inertial>
 </link>
 <joint  name="branch_0_leaf_28_joint"  type="fixed" >
  <parent  link="branch_0" />
  <child  link="branch_0_leaf_28" />
 </joint>
 <link  name="branch_0_leaf_29" >
  <visual >
   <geometry >
    <mesh  scale="0.013522872773500626"  filename="./vine/leaf_0.stl" />
   </geometry>
   <origin  xyz="-0.04902778161391308 -0.0098120655327228 0.06043448100850313"  rpy="3.141592653589793 -0.3251999319276079 -1.3732731108350418" />
   <material  name="branch_0_leaf_29_material" >
    <color  rgba="0 0.5 0 0.7" />
   </material>
  </visual>
  <collision >
   <geometry >
    <cylinder  radius="0.01"  length="0.5" />
   </geometry>
   <origin  xyz="0 0 0.25"  rpy="0 0 0" />
  </collision>
  <inertial >
   <mass  value="0.03" />
   <inertia  ixx="0.00010592593405042605"  iyz="0.0"  iyy="0.00010592593405042605"  izz="0.00010592593405042605"  ixz="0.0"  ixy="0.0" />
  </inertial>
 </link>
 <joint  name="branch_0_leaf_29_joint"  type="fixed" >
  <parent  link="branch_0" />
  <child  link="branch_0_leaf_29" />
 </joint>
 <link  name="branch_0_leaf_30" >
  <visual >
   <geometry >
    <mesh  scale="0.00693335746787814"  filename="./vine/leaf_4.stl" />
   </geometry>
   <origin  xyz="-0.03703541743699782 0.033591336014920835 0.36439012307201774"  rpy="0.0 -0.7642036204559811 0.834124108679542" />
   <material  name="branch_0_leaf_30_material" >
    <color  rgba="0 0.5 0 0.7" />
   </material>
  </visual>
  <collision >
   <geometry >
    <cylinder  radius="0.01"  length="0.5" />
   </geometry>
   <origin  xyz="0 0 0.25"  rpy="0 0 0" />
  </collision>
  <inertial >
   <mass  value="0.03" />
   <inertia  ixx="9.26884280819881e-05"  iyz="0.0"  iyy="9.26884280819881e-05"  izz="9.26884280819881e-05"  ixz="0.0"  ixy="0.0" />
  </inertial>
 </link>
 <joint  name="branch_0_leaf_30_joint"  type="fixed" >
  <parent  link="branch_0" />
  <child  link="branch_0_leaf_30" />
 </joint>
 <link  name="branch_0_leaf_31" >
  <visual >
   <geometry >
    <mesh  scale="0.009724420164163382"  filename="./vine/leaf_5.stl" />
   </geometry>
   <origin  xyz="0.04247312397629633 0.026382451358699818 0.11689297687222638"  rpy="1.1102230246251565e-16 -0.6651408139295301 -1.0149657485565426" />
   <material  name="branch_0_leaf_31_material" >
    <color  rgba="0 0.5 0 0.7" />
   </material>
  </visual>
  <collision >
   <geometry >
    <cylinder  radius="0.01"  length="0.5" />
   </geometry>
   <origin  xyz="0 0 0.25"  rpy="0 0 0" />
  </collision>
  <inertial >
   <mass  value="0.03" />
   <inertia  ixx="8.269909416401806e-05"  iyz="0.0"  iyy="8.269909416401806e-05"  izz="8.269909416401806e-05"  ixz="0.0"  ixy="0.0" />
  </inertial>
 </link>
 <joint  name="branch_0_leaf_31_joint"  type="fixed" >
  <parent  link="branch_0" />
  <child  link="branch_0_leaf_31" />
 </joint>
 <link  name="branch_0_leaf_32" >
  <visual >
   <geometry >
    <mesh  scale="0.015505861748082706"  filename="./vine/leaf_2.stl" />
   </geometry>
   <origin  xyz="-0.04960847772825039 -0.0062449129285912204 0.16266136748380972"  rpy="3.141592653589793 -0.22115561069462253 -1.445571040685353" />
   <material  name="branch_0_leaf_32_material" >
    <color  rgba="0 0.5 0 0.7" />
   </material>
  </visual>
  <collision >
   <geometry >
    <cylinder  radius="0.01"  length="0.5" />
   </geometry>
   <origin  xyz="0 0 0.25"  rpy="0 0 0" />
  </collision>
  <inertial >
   <mass  value="0.03" />
   <inertia  ixx="9.407626476884992e-05"  iyz="0.0"  iyy="9.407626476884992e-05"  izz="9.407626476884992e-05"  ixz="0.0"  ixy="0.0" />
  </inertial>
 </link>
 <joint  name="branch_0_leaf_32_joint"  type="fixed" >
  <parent  link="branch_0" />
  <child  link="branch_0_leaf_32" />
 </joint>
 <link  name="branch_0_leaf_33" >
  <visual >
   <geometry >
    <mesh  scale="0.019346003373509994"  filename="./vine/leaf_1.stl" />
   </geometry>
   <origin  xyz="0.03932570029161448 0.030878621999275047 0.13286959817555888"  rpy="-1.1102230246251565e-16 -0.7294198511626081 -0.9051438580086582" />
   <material  name="branch_0_leaf_33_material" >
    <color  rgba="0 0.5 0 0.7" />
   </material>
  </visual>
  <collision >
   <geometry >
    <cylinder  radius="0.01"  length="0.5" />
   </geometry>
   <origin  xyz="0 0 0.25"  rpy="0 0 0" />
  </collision>
  <inertial >
   <mass  value="0.03" />
   <inertia  ixx="0.00011246284835898623"  iyz="0.0"  iyy="0.00011246284835898623"  izz="0.00011246284835898623"  ixz="0.0"  ixy="0.0" />
  </inertial>
 </link>
 <joint  name="branch_0_leaf_33_joint"  type="fixed" >
  <parent  link="branch_0" />
  <child  link="branch_0_leaf_33" />
 </joint>
 <link  name="branch_0_leaf_34" >
  <visual >
   <geometry >
    <mesh  scale="0.01675271426869481"  filename="./vine/leaf_2.stl" />
   </geometry>
   <origin  xyz="-0.03245715197094808 -0.038033318103141894 0.14465401012275936"  rpy="3.141592653589793 -0.8156254715855257 -0.7064573024767364" />
   <material  name="branch_0_leaf_34_material" >
    <color  rgba="0 0.5 0 0.7" />
   </material>
  </visual>
  <collision >
   <geometry >
    <cylinder  radius="0.01"  length="0.5" />
   </geometry>
   <origin  xyz="0 0 0.25"  rpy="0 0 0" />
  </collision>
  <inertial >
   <mass  value="0.03" />
   <inertia  ixx="9.026103348693457e-05"  iyz="0.0"  iyy="9.026103348693457e-05"  izz="9.026103348693457e-05"  ixz="0.0"  ixy="0.0" />
  </inertial>
 </link>
 <joint  name="branch_0_leaf_34_joint"  type="fixed" >
  <parent  link="branch_0" />
  <child  link="branch_0_leaf_34" />
 </joint>
 <link  name="branch_0_leaf_35" >
  <visual >
   <geometry >
    <mesh  scale="0.01521784874643008"  filename="./vine/leaf_5.stl" />
   </geometry>
   <origin  xyz="-0.02790193532406072 -0.041490746018503125 0.025932035960691824"  rpy="3.141592653589793 -0.8515158554893207 -0.5920203851768191" />
   <material  name="branch_0_leaf_35_material" >
    <color  rgba="0 0.5 0 0.7" />
   </material>
  </visual>
  <collision >
   <geometry >
    <cylinder  radius="0.01"  length="0.5" />
   </geometry>
   <origin  xyz="0 0 0.25"  rpy="0 0 0" />
  </collision>
  <inertial >
   <mass  value="0.03" />
   <inertia  ixx="8.789581565566662e-05"  iyz="0.0"  iyy="8.789581565566662e-05"  izz="8.789581565566662e-05"  ixz="0.0"  ixy="0.0" />
  </inertial>
 </link>
 <joint  name="branch_0_leaf_35_joint"  type="fixed" >
  <parent  link="branch_0" />
  <child  link="branch_0_leaf_35" />
 </joint>
 <link  name="branch_0_leaf_36" >
  <visual >
   <geometry >
    <mesh  scale="0.006870406514615552"  filename="./vine/leaf_5.stl" />
   </geometry>
   <origin  xyz="0.007958529579254456 0.04936255470431136 0.10094018809421218"  rpy="-1.3877787807814457e-17 -0.9221563579525333 -0.15985047693551185" />
   <material  name="branch_0_leaf_36_material" >
    <color  rgba="0 0.5 0 0.7" />
   </material>
  </visual>
  <collision >
   <geometry >
    <cylinder  radius="0.01"  length="0.5" />
   </geometry>
   <origin  xyz="0 0 0.25"  rpy="0 0 0" />
  </collision>
  <inertial >
   <mass  value="0.03" />
   <inertia  ixx="8.222744953594999e-05"  iyz="0.0"  iyy="8.222744953594999e-05"  izz="8.222744953594999e-05"  ixz="0.0"  ixy="0.0" />
  </inertial>
 </link>
 <joint  name="branch_0_leaf_36_joint"  type="fixed" >
  <parent  link="branch_0" />
  <child  link="branch_0_leaf_36" />
 </joint>
 <link  name="branch_0_leaf_37" >
  <visual >
   <geometry >
    <mesh  scale="0.015954040893595763"  filename="./vine/leaf_2.stl" />
   </geometry>
   <origin  xyz="-0.04357782084593747 -0.02451476147792138 0.1195588544270279"  rpy="3.141592653589793 -0.6356765838760249 -1.0583678678004558" />
   <material  name="branch_0_leaf_37_material" >
    <color  rgba="0 0.5 0 0.7" />
   </material>
  </visual>
  <collision >
   <geometry >
    <cylinder  radius="0.01"  length="0.5" />
   </geometry>
   <origin  xyz="0 0 0.25"  rpy="0 0 0" />
  </collision>
  <inertial >
   <mass  value="0.03" />
   <inertia  ixx="8.843172876534101e-05"  iyz="0.0"  iyy="8.843172876534101e-05"  izz="8.843172876534101e-05"  ixz="0.0"  ixy="0.0" />
  </inertial>
 </link>
 <joint  name="branch_0_leaf_37_joint"  type="fixed" >
  <parent  link="branch_0" />
  <child  link="branch_0_leaf_37" />
 </joint>
 <link  name="branch_0_leaf_38" >
  <visual >
   <geometry >
    <mesh  scale="0.008301370211279415"  filename="./vine/leaf_3.stl" />
   </geometry>
   <origin  xyz="0.048721887051536926 0.01123288574397864 0.30568648490618816"  rpy="0.0 -0.3628562164389583 -1.3442045690757873" />
   <material  name="branch_0_leaf_38_material" >
    <color  rgba="0 0.5 0 0.7" />
   </material>
  </visual>
  <collision >
   <geometry >
    <cylinder  radius="0.01"  length="0.5" />
   </geometry>
   <origin  xyz="0 0 0.25"  rpy="0 0 0" />
  </collision>
  <inertial >
   <mass  value="0.03" />
   <inertia  ixx="0.00011953630911906184"  iyz="0.0"  iyy="0.00011953630911906184"  izz="0.00011953630911906184"  ixz="0.0"  ixy="0.0" />
  </inertial>
 </link>
 <joint  name="branch_0_leaf_38_joint"  type="fixed" >
  <parent  link="branch_0" />
  <child  link="branch_0_leaf_38" />
 </joint>
 <link  name="branch_0_leaf_39" >
  <visual >
   <geometry >
    <mesh  scale="0.007062126874981674"  filename="./vine/leaf_0.stl" />
   </geometry>
   <origin  xyz="-0.0059534831905219245 0.04964429511938077 0.4176668247210529"  rpy="0.0 -0.9244373823402934 0.1193528274931718" />
   <material  name="branch_0_leaf_39_material" >
    <color  rgba="0 0.5 0 0.7" />
   </material>
  </visual>
  <collision >
   <geometry >
    <cylinder  radius="0.01"  length="0.5" />
   </geometry>
   <origin  xyz="0 0 0.25"  rpy="0 0 0" />
  </collision>
  <inertial >
   <mass  value="0.03" />
   <inertia  ixx="0.00011745860195136951"  iyz="0.0"  iyy="0.00011745860195136951"  izz="0.00011745860195136951"  ixz="0.0"  ixy="0.0" />
  </inertial>
 </link>
 <joint  name="branch_0_leaf_39_joint"  type="fixed" >
  <parent  link="branch_0" />
  <child  link="branch_0_leaf_39" />
 </joint>
 <link  name="cluster_2" />
 <joint  name="cluster_2_joint"  type="fixed" >
  <parent  link="target" />
  <child  link="cluster_2" />
  <origin  xyz="0.0 0.0 0.0"  rpy="0.0 0.0 -0.7853981633974483" />
 </joint>
 <link  name="cluster_2_leaf_0_link_x" />
 <link  name="cluster_2_leaf_0_link_y" />
 <link  name="cluster_2_leaf_0_link_z" />
 <link  name="cluster_2_leaf_0" >
  <visual >
   <geometry >
    <mesh  scale="0.015819503217684605"  filename="./vine/leaf_2.stl" />
   </geometry>
   <material  name="cluster_2_leaf_0_material" >
    <color  rgba="0 0.5 0 0.7" />
   </material>
  </visual>
  <collision >
   <geometry >
    <mesh  scale="0.015819503217684605"  filename="./vine/leaf_2.stl" />
   </geometry>
  </collision>
  <inertial >
   <mass  value="0.03" />
   <inertia  ixx="8.752136489551766e-05"  iyz="0.0"  iyy="8.752136489551766e-05"  izz="8.752136489551766e-05"  ixz="0.0"  ixy="0.0" />
  </inertial>
 </link>
 <joint  name="cluster_2_leaf_0_joint_x"  type="prismatic" >
  <parent  link="cluster_2" />
  <child  link="cluster_2_leaf_0_link_x" />
  <limit  lower="-5"  velocity="100"  upper="5"  effort="100" />
  <axis  xyz="1 0 0" />
  <origin  xyz="0.06740579539194846 0.07507795787056364 0.28252390870431593"  rpy="1.6296156285889758 0.3381264995786482 1.0148825496997813" />
 </joint>
 <joint  name="cluster_2_leaf_0_joint_y"  type="prismatic" >
  <parent  link="cluster_2_leaf_0_link_x" />
  <child  link="cluster_2_leaf_0_link_y" />
  <limit  lower="-5"  velocity="100"  upper="5"  effort="100" />
  <axis  xyz="0 1 0" />
 </joint>
 <joint  name="cluster_2_leaf_0_joint_z"  type="prismatic" >
  <parent  link="cluster_2_leaf_0_link_y" />
  <child  link="cluster_2_leaf_0_link_z" />
  <limit  lower="-5"  velocity="100"  upper="5"  effort="100" />
  <axis  xyz="0 0 1" />
 </joint>
 <joint  name="cluster_2_leaf_0_joint"  type="fixed" >
  <parent  link="cluster_2_leaf_0_link_z" />
  <child  link="cluster_2_leaf_0" />
 </joint>
 <link  name="cluster_2_leaf_1_link_x" />
 <link  name="cluster_2_leaf_1_link_y" />
 <link  name="cluster_2_leaf_1_link_z" />
 <link  name="cluster_2_leaf_1" >
  <visual >
   <geometry >
    <mesh  scale="0.015685700007764744"  filename="./vine/leaf_5.stl" />
   </geometry>
   <material  name="cluster_2_leaf_1_material" >
    <color  rgba="0 0.5 0 0.7" />
   </material>
  </visual>
  <collision >
   <geometry >
    <mesh  scale="0.015685700007764744"  filename="./vine/leaf_5.stl" />
   </geometry>
  </collision>
  <inertial >
   <mass  value="0.03" />
   <inertia  ixx="8.470438246263305e-05"  iyz="0.0"  iyy="8.470438246263305e-05"  izz="8.470438246263305e-05"  ixz="0.0"  ixy="0.0" />
  </inertial>
 </link>
 <joint  name="cluster_2_leaf_1_joint_x"  type="prismatic" >
  <parent  link="cluster_2" />
  <child  link="cluster_2_leaf_1_link_x" />
  <limit  lower="-5"  velocity="100"  upper="5"  effort="100" />
  <axis  xyz="1 0 0" />
  <origin  xyz="-0.028317090776388717 0.0021845823761587205 0.2986525907635886"  rpy="1.491782120152742 -0.05245899382277203 0.9088752436865752" />
 </joint>
 <joint  name="cluster_2_leaf_1_joint_y"  type="prismatic" >
  <parent  link="cluster_2_leaf_1_link_x" />
  <child  link="cluster_2_leaf_1_link_y" />
  <limit  lower="-5"  velocity="100"  upper="5"  effort="100" />
  <axis  xyz="0 1 0" />
 </joint>
 <joint  name="cluster_2_leaf_1_joint_z"  type="prismatic" >
  <parent  link="cluster_2_leaf_1_link_y" />
  <child  link="cluster_2_leaf_1_link_z" />
  <limit  lower="-5"  velocity="100"  upper="5"  effort="100" />
  <axis  xyz="0 0 1" />
 </joint>
 <joint  name="cluster_2_leaf_1_joint"  type="fixed" >
  <parent  link="cluster_2_leaf_1_link_z" />
  <child  link="cluster_2_leaf_1" />
 </joint>
 <link  name="cluster_2_leaf_2_link_x" />
 <link  name="cluster_2_leaf_2_link_y" />
 <link  name="cluster_2_leaf_2_link_z" />
 <link  name="cluster_2_leaf_2" >
  <visual >
   <geometry >
    <mesh  scale="0.0171702773307728"  filename="./vine/leaf_5.stl" />
   </geometry>
   <material  name="cluster_2_leaf_2_material" >
    <color  rgba="0 0.5 0 0.7" />
   </material>
  </visual>
  <collision >
   <geometry >
    <mesh  scale="0.0171702773307728"  filename="./vine/leaf_5.stl" />
   </geometry>
  </collision>
  <inertial >
   <mass  value="0.03" />
   <inertia  ixx="9.06746214618145e-05"  iyz="0.0"  iyy="9.06746214618145e-05"  izz="9.06746214618145e-05"  ixz="0.0"  ixy="0.0" />
  </inertial>
 </link>
 <joint  name="cluster_2_leaf_2_joint_x"  type="prismatic" >
  <parent  link="cluster_2" />
  <child  link="cluster_2_leaf_2_link_x" />
  <limit  lower="-5"  velocity="100"  upper="5"  effort="100" />
  <axis  xyz="1 0 0" />
  <origin  xyz="0.010873409851649774 0.0015350252939779977 0.29979895372656806"  rpy="1.5969158477423595 0.025658888891258533 0.9347083214717141" />
 </joint>
 <joint  name="cluster_2_leaf_2_joint_y"  type="prismatic" >
  <parent  link="cluster_2_leaf_2_link_x" />
  <child  link="cluster_2_leaf_2_link_y" />
  <limit  lower="-5"  velocity="100"  upper="5"  effort="100" />
  <axis  xyz="0 1 0" />
 </joint>
 <joint  name="cluster_2_leaf_2_joint_z"  type="prismatic" >
  <parent  link="cluster_2_leaf_2_link_y" />
  <child  link="cluster_2_leaf_2_link_z" />
  <limit  lower="-5"  velocity="100"  upper="5"  effort="100" />
  <axis  xyz="0 0 1" />
 </joint>
 <joint  name="cluster_2_leaf_2_joint"  type="fixed" >
  <parent  link="cluster_2_leaf_2_link_z" />
  <child  link="cluster_2_leaf_2" />
 </joint>
 <link  name="cluster_2_leaf_3_link_x" />
 <link  name="cluster_2_leaf_3_link_y" />
 <link  name="cluster_2_leaf_3_link_z" />
 <link  name="cluster_2_leaf_3" >
  <visual >
   <geometry >
    <mesh  scale="0.01804425840308406"  filename="./vine/leaf_2.stl" />
   </geometry>
   <material  name="cluster_2_leaf_3_material" >
    <color  rgba="0 0.5 0 0.7" />
   </material>
  </visual>
  <collision >
   <geometry >
    <mesh  scale="0.01804425840308406"  filename="./vine/leaf_2.stl" />
   </geometry>
  </collision>
  <inertial >
   <mass  value="0.03" />
   <inertia  ixx="8.275997756468832e-05"  iyz="0.0"  iyy="8.275997756468832e-05"  izz="8.275997756468832e-05"  ixz="0.0"  ixy="0.0" />
  </inertial>
 </link>
 <joint  name="cluster_2_leaf_3_joint_x"  type="prismatic" >
  <parent  link="cluster_2" />
  <child  link="cluster_2_leaf_3_link_x" />
  <limit  lower="-5"  velocity="100"  upper="5"  effort="100" />
  <axis  xyz="1 0 0" />
  <origin  xyz="0.015204867470270443 -0.02991318393223067 0.2981174490569917"  rpy="1.670797505050491 -0.050713233570558514 0.9380788463195483" />
 </joint>
 <joint  name="cluster_2_leaf_3_joint_y"  type="prismatic" >
  <parent  link="cluster_2_leaf_3_link_x" />
  <child  link="cluster_2_leaf_3_link_y" />
  <limit  lower="-5"  velocity="100"  upper="5"  effort="100" />
  <axis  xyz="0 1 0" />
 </joint>
 <joint  name="cluster_2_leaf_3_joint_z"  type="prismatic" >
  <parent  link="cluster_2_leaf_3_link_y" />
  <child  link="cluster_2_leaf_3_link_z" />
  <limit  lower="-5"  velocity="100"  upper="5"  effort="100" />
  <axis  xyz="0 0 1" />
 </joint>
 <joint  name="cluster_2_leaf_3_joint"  type="fixed" >
  <parent  link="cluster_2_leaf_3_link_z" />
  <child  link="cluster_2_leaf_3" />
 </joint>
 <link  name="cluster_2_leaf_4_link_x" />
 <link  name="cluster_2_leaf_4_link_y" />
 <link  name="cluster_2_leaf_4_link_z" />
 <link  name="cluster_2_leaf_4" >
  <visual >
   <geometry >
    <mesh  scale="0.01085218763696017"  filename="./vine/leaf_1.stl" />
   </geometry>
   <material  name="cluster_2_leaf_4_material" >
    <color  rgba="0 0.5 0 0.7" />
   </material>
  </visual>
  <collision >
   <geometry >
    <mesh  scale="0.01085218763696017"  filename="./vine/leaf_1.stl" />
   </geometry>
  </collision>
  <inertial >
   <mass  value="0.03" />
   <inertia  ixx="0.000115403944405756"  iyz="0.0"  iyy="0.000115403944405756"  izz="0.000115403944405756"  ixz="0.0"  ixy="0.0" />
  </inertial>
 </link>
 <joint  name="cluster_2_leaf_4_joint_x"  type="prismatic" >
  <parent  link="cluster_2" />
  <child  link="cluster_2_leaf_4_link_x" />
  <limit  lower="-5"  velocity="100"  upper="5"  effort="100" />
  <axis  xyz="1 0 0" />
  <origin  xyz="-0.20006413914735685 0.021192043593575217 0.22254266448381316"  rpy="1.0301756729727043 -0.5252575600415188 0.7693389916675459" />
 </joint>
 <joint  name="cluster_2_leaf_4_joint_y"  type="prismatic" >
  <parent  link="cluster_2_leaf_4_link_x" />
  <child  link="cluster_2_leaf_4_link_y" />
  <limit  lower="-5"  velocity="100"  upper="5"  effort="100" />
  <axis  xyz="0 1 0" />
 </joint>
 <joint  name="cluster_2_leaf_4_joint_z"  type="prismatic" >
  <parent  link="cluster_2_leaf_4_link_y" />
  <child  link="cluster_2_leaf_4_link_z" />
  <limit  lower="-5"  velocity="100"  upper="5"  effort="100" />
  <axis  xyz="0 0 1" />
 </joint>
 <joint  name="cluster_2_leaf_4_joint"  type="fixed" >
  <parent  link="cluster_2_leaf_4_link_z" />
  <child  link="cluster_2_leaf_4" />
 </joint>
 <link  name="cluster_2_leaf_5_link_x" />
 <link  name="cluster_2_leaf_5_link_y" />
 <link  name="cluster_2_leaf_5_link_z" />
 <link  name="cluster_2_leaf_5" >
  <visual >
   <geometry >
    <mesh  scale="0.017976473617212402"  filename="./vine/leaf_0.stl" />
   </geometry>
   <material  name="cluster_2_leaf_5_material" >
    <color  rgba="0 0.5 0 0.7" />
   </material>
  </visual>
  <collision >
   <geometry >
    <mesh  scale="0.017976473617212402"  filename="./vine/leaf_0.stl" />
   </geometry>
  </collision>
  <inertial >
   <mass  value="0.03" />
   <inertia  ixx="8.020922175365394e-05"  iyz="0.0"  iyy="8.020922175365394e-05"  izz="8.020922175365394e-05"  ixz="0.0"  ixy="0.0" />
  </inertial>
 </link>
 <joint  name="cluster_2_leaf_5_joint_x"  type="prismatic" >
  <parent  link="cluster_2" />
  <child  link="cluster_2_leaf_5_link_x" />
  <limit  lower="-5"  velocity="100"  upper="5"  effort="100" />
  <axis  xyz="1 0 0" />
  <origin  xyz="0.13692307614778654 0.12646339023131062 0.2350725040268017"  rpy="1.878608113282108 0.605495215104825 1.2550997776232515" />
 </joint>
 <joint  name="cluster_2_leaf_5_joint_y"  type="prismatic" >
  <parent  link="cluster_2_leaf_5_link_x" />
  <child  link="cluster_2_leaf_5_link_y" />
  <limit  lower="-5"  velocity="100"  upper="5"  effort="100" />
  <axis  xyz="0 1 0" />
 </joint>
 <joint  name="cluster_2_leaf_5_joint_z"  type="prismatic" >
  <parent  link="cluster_2_leaf_5_link_y" />
  <child  link="cluster_2_leaf_5_link_z" />
  <limit  lower="-5"  velocity="100"  upper="5"  effort="100" />
  <axis  xyz="0 0 1" />
 </joint>
 <joint  name="cluster_2_leaf_5_joint"  type="fixed" >
  <parent  link="cluster_2_leaf_5_link_z" />
  <child  link="cluster_2_leaf_5" />
 </joint>
 <link  name="cluster_2_leaf_6_link_x" />
 <link  name="cluster_2_leaf_6_link_y" />
 <link  name="cluster_2_leaf_6_link_z" />
 <link  name="cluster_2_leaf_6" >
  <visual >
   <geometry >
    <mesh  scale="0.012786697805212995"  filename="./vine/leaf_0.stl" />
   </geometry>
   <material  name="cluster_2_leaf_6_material" >
    <color  rgba="0 0.5 0 0.7" />
   </material>
  </visual>
  <collision >
   <geometry >
    <mesh  scale="0.012786697805212995"  filename="./vine/leaf_0.stl" />
   </geometry>
  </collision>
  <inertial >
   <mass  value="0.03" />
   <inertia  ixx="8.989312219037314e-05"  iyz="0.0"  iyy="8.989312219037314e-05"  izz="8.989312219037314e-05"  ixz="0.0"  ixy="0.0" />
  </inertial>
 </link>
 <joint  name="cluster_2_leaf_6_joint_x"  type="prismatic" >
  <parent  link="cluster_2" />
  <child  link="cluster_2_leaf_6_link_x" />
  <limit  lower="-5"  velocity="100"  upper="5"  effort="100" />
  <axis  xyz="1 0 0" />
  <origin  xyz="0.050492671091791945 -0.13275027119778654 0.26424960863344765"  rpy="1.9876257554410115 -0.27170895013405894 0.9083728479202825" />
 </joint>
 <joint  name="cluster_2_leaf_6_joint_y"  type="prismatic" >
  <parent  link="cluster_2_leaf_6_link_x" />
  <child  link="cluster_2_leaf_6_link_y" />
  <limit  lower="-5"  velocity="100"  upper="5"  effort="100" />
  <axis  xyz="0 1 0" />
 </joint>
 <joint  name="cluster_2_leaf_6_joint_z"  type="prismatic" >
  <parent  link="cluster_2_leaf_6_link_y" />
  <child  link="cluster_2_leaf_6_link_z" />
  <limit  lower="-5"  velocity="100"  upper="5"  effort="100" />
  <axis  xyz="0 0 1" />
 </joint>
 <joint  name="cluster_2_leaf_6_joint"  type="fixed" >
  <parent  link="cluster_2_leaf_6_link_z" />
  <child  link="cluster_2_leaf_6" />
 </joint>
 <link  name="cluster_2_leaf_7_link_x" />
 <link  name="cluster_2_leaf_7_link_y" />
 <link  name="cluster_2_leaf_7_link_z" />
 <link  name="cluster_2_leaf_7" >
  <visual >
   <geometry >
    <mesh  scale="0.014107992021057853"  filename="./vine/leaf_3.stl" />
   </geometry>
   <material  name="cluster_2_leaf_7_material" >
    <color  rgba="0 0.5 0 0.7" />
   </material>
  </visual>
  <collision >
   <geometry >
    <mesh  scale="0.014107992021057853"  filename="./vine/leaf_3.stl" />
   </geometry>
  </collision>
  <inertial >
   <mass  value="0.03" />
   <inertia  ixx="0.00011618024305915406"  iyz="0.0"  iyy="0.00011618024305915406"  izz="0.00011618024305915406"  ixz="0.0"  ixy="0.0" />
  </inertial>
 </link>
 <joint  name="cluster_2_leaf_7_joint_x"  type="prismatic" >
  <parent  link="cluster_2" />
  <child  link="cluster_2_leaf_7_link_x" />
  <limit  lower="-5"  velocity="100"  upper="5"  effort="100" />
  <axis  xyz="1 0 0" />
  <origin  xyz="-0.13494213383718123 -0.0789054498812287 0.25605575661271346"  rpy="1.4103498935882686 -0.5263940755177238 0.8407418948661716" />
 </joint>
 <joint  name="cluster_2_leaf_7_joint_y"  type="prismatic" >
  <parent  link="cluster_2_leaf_7_link_x" />
  <child  link="cluster_2_leaf_7_link_y" />
  <limit  lower="-5"  velocity="100"  upper="5"  effort="100" />
  <axis  xyz="0 1 0" />
 </joint>
 <joint  name="cluster_2_leaf_7_joint_z"  type="prismatic" >
  <parent  link="cluster_2_leaf_7_link_y" />
  <child  link="cluster_2_leaf_7_link_z" />
  <limit  lower="-5"  velocity="100"  upper="5"  effort="100" />
  <axis  xyz="0 0 1" />
 </joint>
 <joint  name="cluster_2_leaf_7_joint"  type="fixed" >
  <parent  link="cluster_2_leaf_7_link_z" />
  <child  link="cluster_2_leaf_7" />
 </joint>
 <link  name="cluster_2_leaf_8_link_x" />
 <link  name="cluster_2_leaf_8_link_y" />
 <link  name="cluster_2_leaf_8_link_z" />
 <link  name="cluster_2_leaf_8" >
  <visual >
   <geometry >
    <mesh  scale="0.019736569786377958"  filename="./vine/leaf_1.stl" />
   </geometry>
   <material  name="cluster_2_leaf_8_material" >
    <color  rgba="0 0.5 0 0.7" />
   </material>
  </visual>
  <collision >
   <geometry >
    <mesh  scale="0.019736569786377958"  filename="./vine/leaf_1.stl" />
   </geometry>
  </collision>
  <inertial >
   <mass  value="0.03" />
   <inertia  ixx="0.0001129028947778935"  iyz="0.0"  iyy="0.0001129028947778935"  izz="0.0001129028947778935"  ixz="0.0"  ixy="0.0" />
  </inertial>
 </link>
 <joint  name="cluster_2_leaf_8_joint_x"  type="prismatic" >
  <parent  link="cluster_2" />
  <child  link="cluster_2_leaf_8_link_x" />
  <limit  lower="-5"  velocity="100"  upper="5"  effort="100" />
  <axis  xyz="1 0 0" />
  <origin  xyz="0.04851988146322691 0.19539184025820838 0.22241369081804557"  rpy="1.4827981460988222 0.7313719925830994 1.196062614868009" />
 </joint>
 <joint  name="cluster_2_leaf_8_joint_y"  type="prismatic" >
  <parent  link="cluster_2_leaf_8_link_x" />
  <child  link="cluster_2_leaf_8_link_y" />
  <limit  lower="-5"  velocity="100"  upper="5"  effort="100" />
  <axis  xyz="0 1 0" />
 </joint>
 <joint  name="cluster_2_leaf_8_joint_z"  type="prismatic" >
  <parent  link="cluster_2_leaf_8_link_y" />
  <child  link="cluster_2_leaf_8_link_z" />
  <limit  lower="-5"  velocity="100"  upper="5"  effort="100" />
  <axis  xyz="0 0 1" />
 </joint>
 <joint  name="cluster_2_leaf_8_joint"  type="fixed" >
  <parent  link="cluster_2_leaf_8_link_z" />
  <child  link="cluster_2_leaf_8" />
 </joint>
 <link  name="cluster_2_leaf_9_link_x" />
 <link  name="cluster_2_leaf_9_link_y" />
 <link  name="cluster_2_leaf_9_link_z" />
 <link  name="cluster_2_leaf_9" >
  <visual >
   <geometry >
    <mesh  scale="0.01531828770152419"  filename="./vine/leaf_0.stl" />
   </geometry>
   <material  name="cluster_2_leaf_9_material" >
    <color  rgba="0 0.5 0 0.7" />
   </material>
  </visual>
  <collision >
   <geometry >
    <mesh  scale="0.01531828770152419"  filename="./vine/leaf_0.stl" />
   </geometry>
  </collision>
  <inertial >
   <mass  value="0.03" />
   <inertia  ixx="0.00010188823185285293"  iyz="0.0"  iyy="0.00010188823185285293"  izz="0.00010188823185285293"  ixz="0.0"  ixy="0.0" />
  </inertial>
 </link>
 <joint  name="cluster_2_leaf_9_joint_x"  type="prismatic" >
  <parent  link="cluster_2" />
  <child  link="cluster_2_leaf_9_link_x" />
  <limit  lower="-5"  velocity="100"  upper="5"  effort="100" />
  <axis  xyz="1 0 0" />
  <origin  xyz="-0.09826250612229215 0.16059105040256977 0.23357010600923606"  rpy="0.9331659545714903 0.24981117881039905 0.8711820927905856" />
 </joint>
 <joint  name="cluster_2_leaf_9_joint_y"  type="prismatic" >
  <parent  link="cluster_2_leaf_9_link_x" />
  <child  link="cluster_2_leaf_9_link_y" />
  <limit  lower="-5"  velocity="100"  upper="5"  effort="100" />
  <axis  xyz="0 1 0" />
 </joint>
 <joint  name="cluster_2_leaf_9_joint_z"  type="prismatic" >
  <parent  link="cluster_2_leaf_9_link_y" />
  <child  link="cluster_2_leaf_9_link_z" />
  <limit  lower="-5"  velocity="100"  upper="5"  effort="100" />
  <axis  xyz="0 0 1" />
 </joint>
 <joint  name="cluster_2_leaf_9_joint"  type="fixed" >
  <parent  link="cluster_2_leaf_9_link_z" />
  <child  link="cluster_2_leaf_9" />
 </joint>
 <link  name="cluster_2_leaf_10_link_x" />
 <link  name="cluster_2_leaf_10_link_y" />
 <link  name="cluster_2_leaf_10_link_z" />
 <link  name="cluster_2_leaf_10" >
  <visual >
   <geometry >
    <mesh  scale="0.012618937342188169"  filename="./vine/leaf_4.stl" />
   </geometry>
   <material  name="cluster_2_leaf_10_material" >
    <color  rgba="0 0.5 0 0.7" />
   </material>
  </visual>
  <collision >
   <geometry >
    <mesh  scale="0.012618937342188169"  filename="./vine/leaf_4.stl" />
   </geometry>
  </collision>
  <inertial >
   <mass  value="0.03" />
   <inertia  ixx="0.00011826422236726789"  iyz="0.0"  iyy="0.00011826422236726789"  izz="0.00011826422236726789"  ixz="0.0"  ixy="0.0" />
  </inertial>
 </link>
 <joint  name="cluster_2_leaf_10_joint_x"  type="prismatic" >
  <parent  link="cluster_2" />
  <child  link="cluster_2_leaf_10_link_x" />
  <limit  lower="-5"  velocity="100"  upper="5"  effort="100" />
  <axis  xyz="1 0 0" />
  <origin  xyz="0.13346352970475325 -0.03258664982550976 0.26669382537265096"  rpy="2.0232629367034343 0.15216516931374813 1.0290500285834696" />
 </joint>
 <joint  name="cluster_2_leaf_10_joint_y"  type="prismatic" >
  <parent  link="cluster_2_leaf_10_link_x" />
  <child  link="cluster_2_leaf_10_link_y" />
  <limit  lower="-5"  velocity="100"  upper="5"  effort="100" />
  <axis  xyz="0 1 0" />
 </joint>
 <joint  name="cluster_2_leaf_10_joint_z"  type="prismatic" >
  <parent  link="cluster_2_leaf_10_link_y" />
  <child  link="cluster_2_leaf_10_link_z" />
  <limit  lower="-5"  velocity="100"  upper="5"  effort="100" />
  <axis  xyz="0 0 1" />
 </joint>
 <joint  name="cluster_2_leaf_10_joint"  type="fixed" >
  <parent  link="cluster_2_leaf_10_link_z" />
  <child  link="cluster_2_leaf_10" />
 </joint>
 <link  name="cluster_2_leaf_11_link_x" />
 <link  name="cluster_2_leaf_11_link_y" />
 <link  name="cluster_2_leaf_11_link_z" />
 <link  name="cluster_2_leaf_11" >
  <visual >
   <geometry >
    <mesh  scale="0.01642659234654198"  filename="./vine/leaf_3.stl" />
   </geometry>
   <material  name="cluster_2_leaf_11_material" >
    <color  rgba="0 0.5 0 0.7" />
   </material>
  </visual>
  <collision >
   <geometry >
    <mesh  scale="0.01642659234654198"  filename="./vine/leaf_3.stl" />
   </geometry>
  </collision>
  <inertial >
   <mass  value="0.03" />
   <inertia  ixx="0.00011628015720447816"  iyz="0.0"  iyy="0.00011628015720447816"  izz="0.00011628015720447816"  ixz="0.0"  ixy="0.0" />
  </inertial>
 </link>
 <joint  name="cluster_2_leaf_11_joint_x"  type="prismatic" >
  <parent  link="cluster_2" />
  <child  link="cluster_2_leaf_11_link_x" />
  <limit  lower="-5"  velocity="100"  upper="5"  effort="100" />
  <axis  xyz="1 0 0" />
  <origin  xyz="0.09287097361572698 -0.025008672029785343 0.28416465048097306"  rpy="1.880635045565273 0.10421633236323403 0.9935789553784293" />
 </joint>
 <joint  name="cluster_2_leaf_11_joint_y"  type="prismatic" >
  <parent  link="cluster_2_leaf_11_link_x" />
  <child  link="cluster_2_leaf_11_link_y" />
  <limit  lower="-5"  velocity="100"  upper="5"  effort="100" />
  <axis  xyz="0 1 0" />
 </joint>
 <joint  name="cluster_2_leaf_11_joint_z"  type="prismatic" >
  <parent  link="cluster_2_leaf_11_link_y" />
  <child  link="cluster_2_leaf_11_link_z" />
  <limit  lower="-5"  velocity="100"  upper="5"  effort="100" />
  <axis  xyz="0 0 1" />
 </joint>
 <joint  name="cluster_2_leaf_11_joint"  type="fixed" >
  <parent  link="cluster_2_leaf_11_link_z" />
  <child  link="cluster_2_leaf_11" />
 </joint>
 <link  name="cluster_2_leaf_12_link_x" />
 <link  name="cluster_2_leaf_12_link_y" />
 <link  name="cluster_2_leaf_12_link_z" />
 <link  name="cluster_2_leaf_12" >
  <visual >
   <geometry >
    <mesh  scale="0.012551345323706341"  filename="./vine/leaf_3.stl" />
   </geometry>
   <material  name="cluster_2_leaf_12_material" >
    <color  rgba="0 0.5 0 0.7" />
   </material>
  </visual>
  <collision >
   <geometry >
    <mesh  scale="0.012551345323706341"  filename="./vine/leaf_3.stl" />
   </geometry>
  </collision>
  <inertial >
   <mass  value="0.03" />
   <inertia  ixx="0.00011910406746887767"  iyz="0.0"  iyy="0.00011910406746887767"  izz="0.00011910406746887767"  ixz="0.0"  ixy="0.0" />
  </inertial>
 </link>
 <joint  name="cluster_2_leaf_12_joint_x"  type="prismatic" >
  <parent  link="cluster_2" />
  <child  link="cluster_2_leaf_12_link_x" />
  <limit  lower="-5"  velocity="100"  upper="5"  effort="100" />
  <axis  xyz="1 0 0" />
  <origin  xyz="-0.0888863736484668 0.027255235700576932 0.2852303712905257"  rpy="1.2819101129790345 -0.1276074785962534 0.8686892229935553" />
 </joint>
 <joint  name="cluster_2_leaf_12_joint_y"  type="prismatic" >
  <parent  link="cluster_2_leaf_12_link_x" />
  <child  link="cluster_2_leaf_12_link_y" />
  <limit  lower="-5"  velocity="100"  upper="5"  effort="100" />
  <axis  xyz="0 1 0" />
 </joint>
 <joint  name="cluster_2_leaf_12_joint_z"  type="prismatic" >
  <parent  link="cluster_2_leaf_12_link_y" />
  <child  link="cluster_2_leaf_12_link_z" />
  <limit  lower="-5"  velocity="100"  upper="5"  effort="100" />
  <axis  xyz="0 0 1" />
 </joint>
 <joint  name="cluster_2_leaf_12_joint"  type="fixed" >
  <parent  link="cluster_2_leaf_12_link_z" />
  <child  link="cluster_2_leaf_12" />
 </joint>
 <link  name="cluster_2_leaf_13_link_x" />
 <link  name="cluster_2_leaf_13_link_y" />
 <link  name="cluster_2_leaf_13_link_z" />
 <link  name="cluster_2_leaf_13" >
  <visual >
   <geometry >
    <mesh  scale="0.014029579522758497"  filename="./vine/leaf_5.stl" />
   </geometry>
   <material  name="cluster_2_leaf_13_material" >
    <color  rgba="0 0.5 0 0.7" />
   </material>
  </visual>
  <collision >
   <geometry >
    <mesh  scale="0.014029579522758497"  filename="./vine/leaf_5.stl" />
   </geometry>
  </collision>
  <inertial >
   <mass  value="0.03" />
   <inertia  ixx="8.17830008852065e-05"  iyz="0.0"  iyy="8.17830008852065e-05"  izz="8.17830008852065e-05"  ixz="0.0"  ixy="0.0" />
  </inertial>
 </link>
 <joint  name="cluster_2_leaf_13_joint_x"  type="prismatic" >
  <parent  link="cluster_2" />
  <child  link="cluster_2_leaf_13_link_x" />
  <limit  lower="-5"  velocity="100"  upper="5"  effort="100" />
  <axis  xyz="1 0 0" />
  <origin  xyz="-0.021560484756608985 0.053856407428678414 0.2943376171608655"  rpy="1.4036049046633075 0.10004547206269863 0.9151721337033458" />
 </joint>
 <joint  name="cluster_2_leaf_13_joint_y"  type="prismatic" >
  <parent  link="cluster_2_leaf_13_link_x" />
  <child  link="cluster_2_leaf_13_link_y" />
  <limit  lower="-5"  velocity="100"  upper="5"  effort="100" />
  <axis  xyz="0 1 0" />
 </joint>
 <joint  name="cluster_2_leaf_13_joint_z"  type="prismatic" >
  <parent  link="cluster_2_leaf_13_link_y" />
  <child  link="cluster_2_leaf_13_link_z" />
  <limit  lower="-5"  velocity="100"  upper="5"  effort="100" />
  <axis  xyz="0 0 1" />
 </joint>
 <joint  name="cluster_2_leaf_13_joint"  type="fixed" >
  <parent  link="cluster_2_leaf_13_link_z" />
  <child  link="cluster_2_leaf_13" />
 </joint>
 <link  name="cluster_2_leaf_14_link_x" />
 <link  name="cluster_2_leaf_14_link_y" />
 <link  name="cluster_2_leaf_14_link_z" />
 <link  name="cluster_2_leaf_14" >
  <visual >
   <geometry >
    <mesh  scale="0.01773202586536152"  filename="./vine/leaf_5.stl" />
   </geometry>
   <material  name="cluster_2_leaf_14_material" >
    <color  rgba="0 0.5 0 0.7" />
   </material>
  </visual>
  <collision >
   <geometry >
    <mesh  scale="0.01773202586536152"  filename="./vine/leaf_5.stl" />
   </geometry>
  </collision>
  <inertial >
   <mass  value="0.03" />
   <inertia  ixx="8.140602227729039e-05"  iyz="0.0"  iyy="8.140602227729039e-05"  izz="8.140602227729039e-05"  ixz="0.0"  ixy="0.0" />
  </inertial>
 </link>
 <joint  name="cluster_2_leaf_14_joint_x"  type="prismatic" >
  <parent  link="cluster_2" />
  <child  link="cluster_2_leaf_14_link_x" />
  <limit  lower="-5"  velocity="100"  upper="5"  effort="100" />
  <axis  xyz="1 0 0" />
  <origin  xyz="0.05445259792878198 0.028728742027777174 0.29361466918447354"  rpy="1.6674213689437762 0.1829996315787708 0.9748815060772473" />
 </joint>
 <joint  name="cluster_2_leaf_14_joint_y"  type="prismatic" >
  <parent  link="cluster_2_leaf_14_link_x" />
  <child  link="cluster_2_leaf_14_link_y" />
  <limit  lower="-5"  velocity="100"  upper="5"  effort="100" />
  <axis  xyz="0 1 0" />
 </joint>
 <joint  name="cluster_2_leaf_14_joint_z"  type="prismatic" >
  <parent  link="cluster_2_leaf_14_link_y" />
  <child  link="cluster_2_leaf_14_link_z" />
  <limit  lower="-5"  velocity="100"  upper="5"  effort="100" />
  <axis  xyz="0 0 1" />
 </joint>
 <joint  name="cluster_2_leaf_14_joint"  type="fixed" >
  <parent  link="cluster_2_leaf_14_link_z" />
  <child  link="cluster_2_leaf_14" />
 </joint>
 <link  name="cluster_2_leaf_15_link_x" />
 <link  name="cluster_2_leaf_15_link_y" />
 <link  name="cluster_2_leaf_15_link_z" />
 <link  name="cluster_2_leaf_15" >
  <visual >
   <geometry >
    <mesh  scale="0.012039056481416205"  filename="./vine/leaf_1.stl" />
   </geometry>
   <material  name="cluster_2_leaf_15_material" >
    <color  rgba="0 0.5 0 0.7" />
   </material>
  </visual>
  <collision >
   <geometry >
    <mesh  scale="0.012039056481416205"  filename="./vine/leaf_1.stl" />
   </geometry>
  </collision>
  <inertial >
   <mass  value="0.03" />
   <inertia  ixx="0.00010303695707589169"  iyz="0.0"  iyy="0.00010303695707589169"  izz="0.00010303695707589169"  ixz="0.0"  ixy="0.0" />
  </inertial>
 </link>
 <joint  name="cluster_2_leaf_15_joint_x"  type="prismatic" >
  <parent  link="cluster_2" />
  <child  link="cluster_2_leaf_15_link_x" />
  <limit  lower="-5"  velocity="100"  upper="5"  effort="100" />
  <axis  xyz="1 0 0" />
  <origin  xyz="0.12547165688742629 0.03412996950871077 0.27035533747137014"  rpy="1.886750922137085 0.3235396612503123 1.0649126821337664" />
 </joint>
 <joint  name="cluster_2_leaf_15_joint_y"  type="prismatic" >
  <parent  link="cluster_2_leaf_15_link_x" />
  <child  link="cluster_2_leaf_15_link_y" />
  <limit  lower="-5"  velocity="100"  upper="5"  effort="100" />
  <axis  xyz="0 1 0" />
 </joint>
 <joint  name="cluster_2_leaf_15_joint_z"  type="prismatic" >
  <parent  link="cluster_2_leaf_15_link_y" />
  <child  link="cluster_2_leaf_15_link_z" />
  <limit  lower="-5"  velocity="100"  upper="5"  effort="100" />
  <axis  xyz="0 0 1" />
 </joint>
 <joint  name="cluster_2_leaf_15_joint"  type="fixed" >
  <parent  link="cluster_2_leaf_15_link_z" />
  <child  link="cluster_2_leaf_15" />
 </joint>
 <link  name="cluster_2_leaf_16_link_x" />
 <link  name="cluster_2_leaf_16_link_y" />
 <link  name="cluster_2_leaf_16_link_z" />
 <link  name="cluster_2_leaf_16" >
  <visual >
   <geometry >
    <mesh  scale="0.012526406429673701"  filename="./vine/leaf_4.stl" />
   </geometry>
   <material  name="cluster_2_leaf_16_material" >
    <color  rgba="0 0.5 0 0.7" />
   </material>
  </visual>
  <collision >
   <geometry >
    <mesh  scale="0.012526406429673701"  filename="./vine/leaf_4.stl" />
   </geometry>
  </collision>
  <inertial >
   <mass  value="0.03" />
   <inertia  ixx="9.794800776980419e-05"  iyz="0.0"  iyy="9.794800776980419e-05"  izz="9.794800776980419e-05"  ixz="0.0"  ixy="0.0" />
  </inertial>
 </link>
 <joint  name="cluster_2_leaf_16_joint_x"  type="prismatic" >
  <parent  link="cluster_2" />
  <child  link="cluster_2_leaf_16_link_x" />
  <limit  lower="-5"  velocity="100"  upper="5"  effort="100" />
  <axis  xyz="1 0 0" />
  <origin  xyz="0.010289551003601691 0.037533533225030766 0.2974648870434791"  rpy="1.5244550006648265 0.12160464155950496 0.9380749990558623" />
 </joint>
 <joint  name="cluster_2_leaf_16_joint_y"  type="prismatic" >
  <parent  link="cluster_2_leaf_16_link_x" />
  <child  link="cluster_2_leaf_16_link_y" />
  <limit  lower="-5"  velocity="100"  upper="5"  effort="100" />
  <axis  xyz="0 1 0" />
 </joint>
 <joint  name="cluster_2_leaf_16_joint_z"  type="prismatic" >
  <parent  link="cluster_2_leaf_16_link_y" />
  <child  link="cluster_2_leaf_16_link_z" />
  <limit  lower="-5"  velocity="100"  upper="5"  effort="100" />
  <axis  xyz="0 0 1" />
 </joint>
 <joint  name="cluster_2_leaf_16_joint"  type="fixed" >
  <parent  link="cluster_2_leaf_16_link_z" />
  <child  link="cluster_2_leaf_16" />
 </joint>
 <link  name="cluster_2_leaf_17_link_x" />
 <link  name="cluster_2_leaf_17_link_y" />
 <link  name="cluster_2_leaf_17_link_z" />
 <link  name="cluster_2_leaf_17" >
  <visual >
   <geometry >
    <mesh  scale="0.015174610688037327"  filename="./vine/leaf_4.stl" />
   </geometry>
   <material  name="cluster_2_leaf_17_material" >
    <color  rgba="0 0.5 0 0.7" />
   </material>
  </visual>
  <collision >
   <geometry >
    <mesh  scale="0.015174610688037327"  filename="./vine/leaf_4.stl" />
   </geometry>
  </collision>
  <inertial >
   <mass  value="0.03" />
   <inertia  ixx="9.805389053895615e-05"  iyz="0.0"  iyy="9.805389053895615e-05"  izz="9.805389053895615e-05"  ixz="0.0"  ixy="0.0" />
  </inertial>
 </link>
 <joint  name="cluster_2_leaf_17_joint_x"  type="prismatic" >
  <parent  link="cluster_2" />
  <child  link="cluster_2_leaf_17_link_x" />
  <limit  lower="-5"  velocity="100"  upper="5"  effort="100" />
  <axis  xyz="1 0 0" />
  <origin  xyz="-0.10254676781953435 -0.0019761273185217873 0.2819224278601961"  rpy="1.312674997444045 -0.23745147292969468 0.8622595610398358" />
 </joint>
 <joint  name="cluster_2_leaf_17_joint_y"  type="prismatic" >
  <parent  link="cluster_2_leaf_17_link_x" />
  <child  link="cluster_2_leaf_17_link_y" />
  <limit  lower="-5"  velocity="100"  upper="5"  effort="100" />
  <axis  xyz="0 1 0" />
 </joint>
 <joint  name="cluster_2_leaf_17_joint_z"  type="prismatic" >
  <parent  link="cluster_2_leaf_17_link_y" />
  <child  link="cluster_2_leaf_17_link_z" />
  <limit  lower="-5"  velocity="100"  upper="5"  effort="100" />
  <axis  xyz="0 0 1" />
 </joint>
 <joint  name="cluster_2_leaf_17_joint"  type="fixed" >
  <parent  link="cluster_2_leaf_17_link_z" />
  <child  link="cluster_2_leaf_17" />
 </joint>
 <link  name="cluster_2_leaf_18_link_x" />
 <link  name="cluster_2_leaf_18_link_y" />
 <link  name="cluster_2_leaf_18_link_z" />
 <link  name="cluster_2_leaf_18" >
  <visual >
   <geometry >
    <mesh  scale="0.017111499370899532"  filename="./vine/leaf_5.stl" />
   </geometry>
   <material  name="cluster_2_leaf_18_material" >
    <color  rgba="0 0.5 0 0.7" />
   </material>
  </visual>
  <collision >
   <geometry >
    <mesh  scale="0.017111499370899532"  filename="./vine/leaf_5.stl" />
   </geometry>
  </collision>
  <inertial >
   <mass  value="0.03" />
   <inertia  ixx="0.0001081235059531679"  iyz="0.0"  iyy="0.0001081235059531679"  izz="0.0001081235059531679"  ixz="0.0"  ixy="0.0" />
  </inertial>
 </link>
 <joint  name="cluster_2_leaf_18_joint_x"  type="prismatic" >
  <parent  link="cluster_2" />
  <child  link="cluster_2_leaf_18_link_x" />
  <limit  lower="-5"  velocity="100"  upper="5"  effort="100" />
  <axis  xyz="1 0 0" />
  <origin  xyz="-0.0277777184448722 0.06547168440436585 0.29144786308918536"  rpy="1.3624621053989192 0.11869572535665923 0.9118574436104933" />
 </joint>
 <joint  name="cluster_2_leaf_18_joint_y"  type="prismatic" >
  <parent  link="cluster_2_leaf_18_link_x" />
  <child  link="cluster_2_leaf_18_link_y" />
  <limit  lower="-5"  velocity="100"  upper="5"  effort="100" />
  <axis  xyz="0 1 0" />
 </joint>
 <joint  name="cluster_2_leaf_18_joint_z"  type="prismatic" >
  <parent  link="cluster_2_leaf_18_link_y" />
  <child  link="cluster_2_leaf_18_link_z" />
  <limit  lower="-5"  velocity="100"  upper="5"  effort="100" />
  <axis  xyz="0 0 1" />
 </joint>
 <joint  name="cluster_2_leaf_18_joint"  type="fixed" >
  <parent  link="cluster_2_leaf_18_link_z" />
  <child  link="cluster_2_leaf_18" />
 </joint>
 <link  name="cluster_2_leaf_19_link_x" />
 <link  name="cluster_2_leaf_19_link_y" />
 <link  name="cluster_2_leaf_19_link_z" />
 <link  name="cluster_2_leaf_19" >
  <visual >
   <geometry >
    <mesh  scale="0.010522598400308883"  filename="./vine/leaf_0.stl" />
   </geometry>
   <material  name="cluster_2_leaf_19_material" >
    <color  rgba="0 0.5 0 0.7" />
   </material>
  </visual>
  <collision >
   <geometry >
    <mesh  scale="0.010522598400308883"  filename="./vine/leaf_0.stl" />
   </geometry>
  </collision>
  <inertial >
   <mass  value="0.03" />
   <inertia  ixx="0.00010649505484563205"  iyz="0.0"  iyy="0.00010649505484563205"  izz="0.00010649505484563205"  ixz="0.0"  ixy="0.0" />
  </inertial>
 </link>
 <joint  name="cluster_2_leaf_19_joint_x"  type="prismatic" >
  <parent  link="cluster_2" />
  <child  link="cluster_2_leaf_19_link_x" />
  <limit  lower="-5"  velocity="100"  upper="5"  effort="100" />
  <axis  xyz="1 0 0" />
  <origin  xyz="-0.13795776483152042 0.03384376023038439 0.2642390111549753"  rpy="1.1411417007409141 -0.25022642652279165 0.8347669883917481" />
 </joint>
 <joint  name="cluster_2_leaf_19_joint_y"  type="prismatic" >
  <parent  link="cluster_2_leaf_19_link_x" />
  <child  link="cluster_2_leaf_19_link_y" />
  <limit  lower="-5"  velocity="100"  upper="5"  effort="100" />
  <axis  xyz="0 1 0" />
 </joint>
 <joint  name="cluster_2_leaf_19_joint_z"  type="prismatic" >
  <parent  link="cluster_2_leaf_19_link_y" />
  <child  link="cluster_2_leaf_19_link_z" />
  <limit  lower="-5"  velocity="100"  upper="5"  effort="100" />
  <axis  xyz="0 0 1" />
 </joint>
 <joint  name="cluster_2_leaf_19_joint"  type="fixed" >
  <parent  link="cluster_2_leaf_19_link_z" />
  <child  link="cluster_2_leaf_19" />
 </joint>
</robot>
